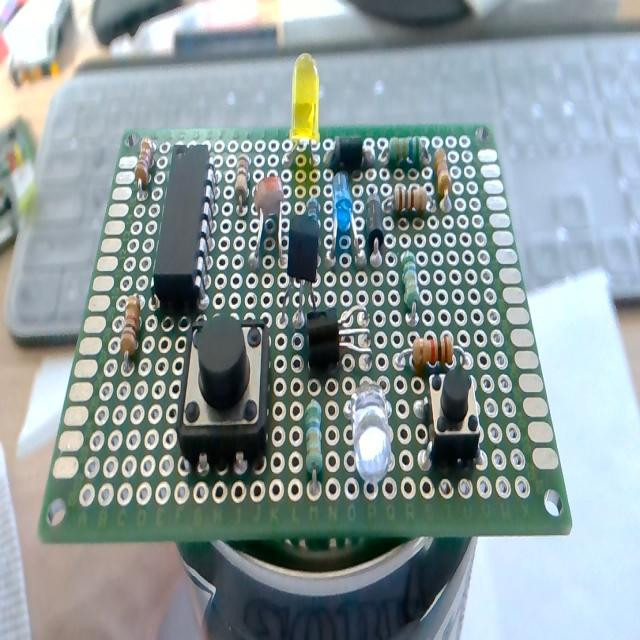IC: (151, 144, 213, 314)
cds: (253, 173, 284, 262)
diode: (366, 191, 384, 263), (331, 135, 364, 170)
led: (348, 382, 394, 487), (286, 51, 326, 169), (332, 169, 360, 265)
resistor: (399, 332, 471, 374), (304, 399, 324, 495), (135, 137, 157, 199), (120, 295, 140, 358), (394, 182, 427, 218), (389, 135, 426, 167), (401, 251, 418, 310), (434, 148, 451, 201), (235, 155, 251, 208)
switch: (178, 316, 268, 467), (428, 365, 478, 464)
transistor: (307, 306, 371, 372), (286, 198, 318, 322)
